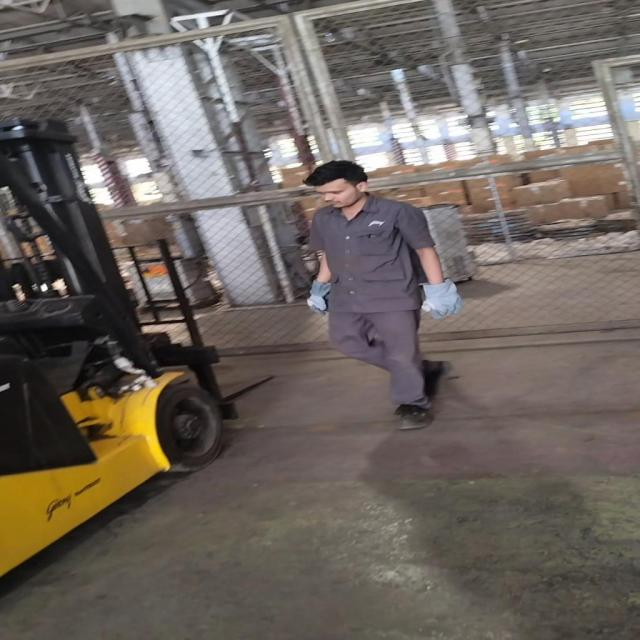Gloves-Detection: (410, 276, 468, 324), (299, 269, 331, 314)
